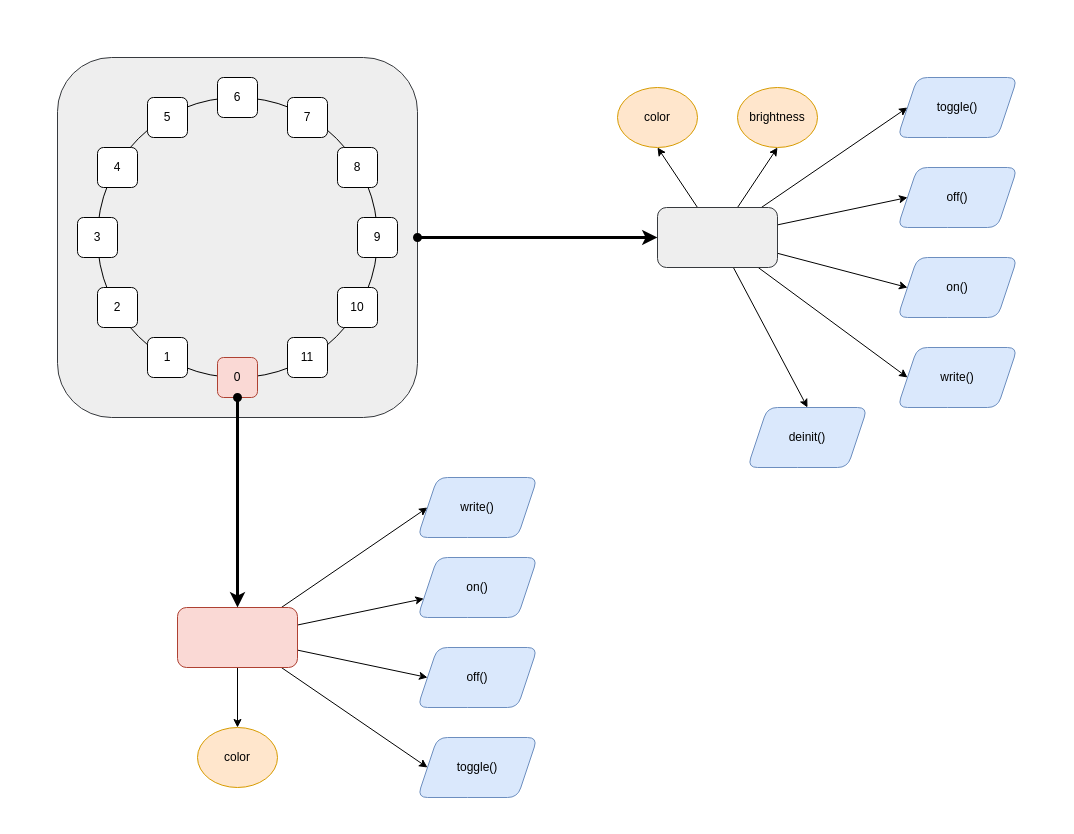
This 1074x834 diagram has some shape labels left out. Each missing label, with the box of its shape:
PIXEL: (176, 606, 298, 668)
RING: (656, 206, 778, 268)
